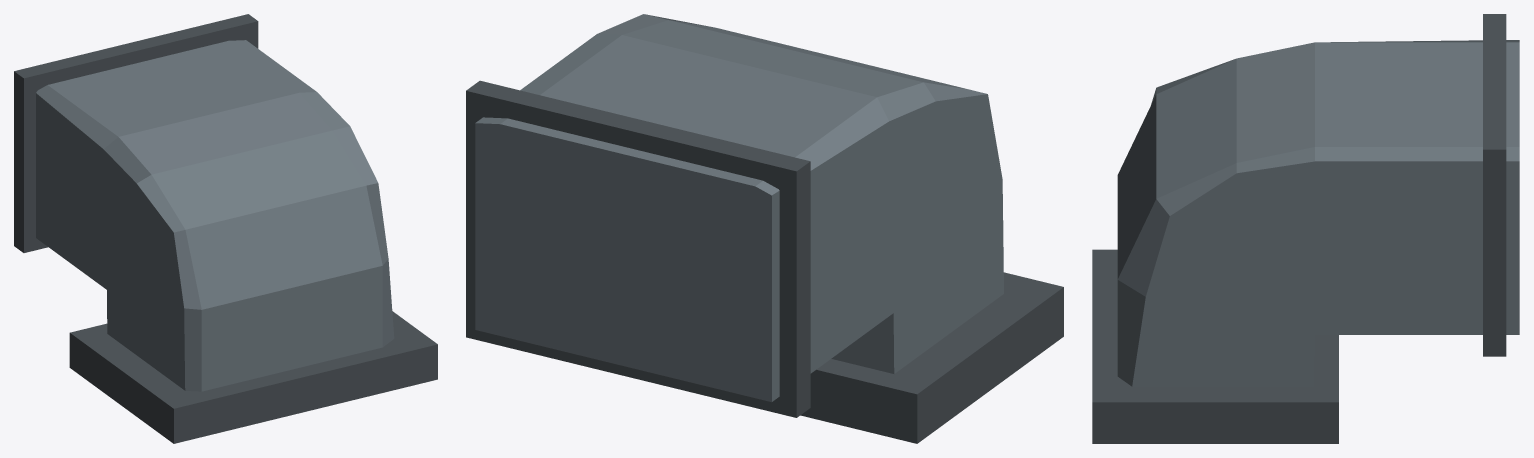
File: SM_Prop_Vents_End_01.fbx
The picture shows the model from 3 angles, left to right: view 1: azimuth 30°, elevation 25°; view 2: azimuth 150°, elevation 25°; view 3: azimuth 270°, elevation 25°; orthographic projection. The views are drawn at different scales.
Parts seen in each view (by area): view 1: SM_Prop_Vents_End_01; view 2: SM_Prop_Vents_End_01; view 3: SM_Prop_Vents_End_01.
Part boxes in pixels (<box>): SM_Prop_Vents_End_01: <box>14,14,437,443</box>; SM_Prop_Vents_End_01: <box>466,14,1063,443</box>; SM_Prop_Vents_End_01: <box>1092,14,1519,443</box>.
Bounding box in the file's own units: 92.04 × 80.35 × 109.
